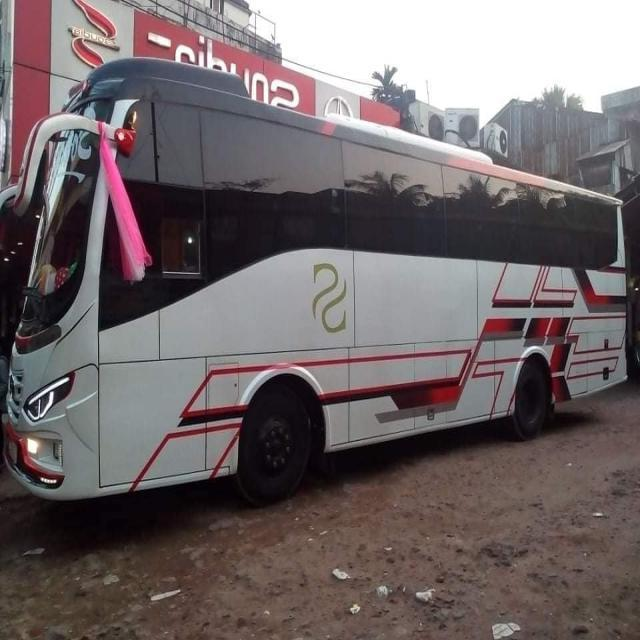Bus: (1, 59, 631, 545)
